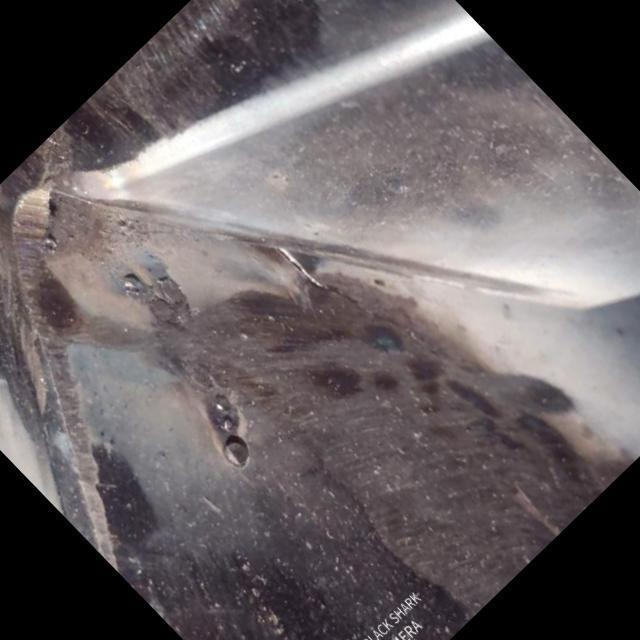defect: (274, 239, 446, 361)
